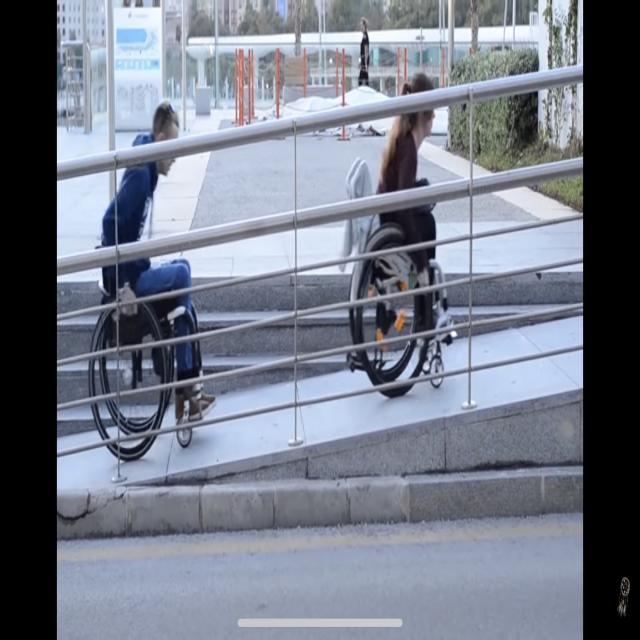wheelchairs: (88, 232, 204, 463), (346, 159, 458, 398)
